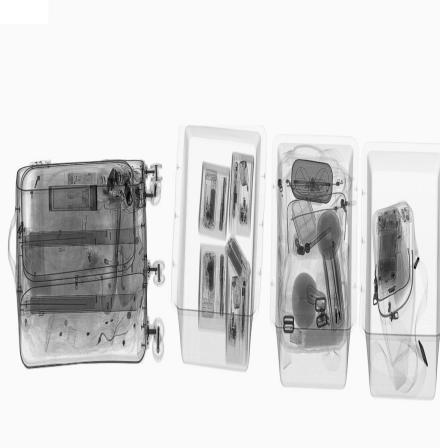Lighter: (390, 222, 410, 250)
